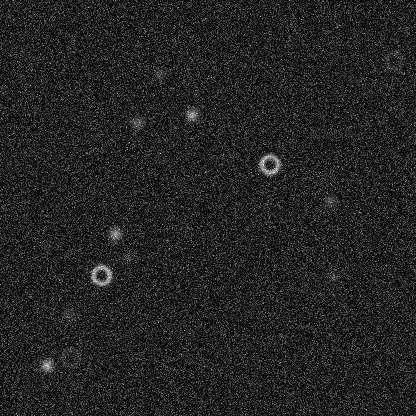Ring: (382, 48, 406, 72), (257, 152, 281, 176), (89, 263, 113, 287), (58, 345, 82, 369)
Spot: (322, 192, 338, 208), (128, 114, 144, 130), (38, 357, 54, 373), (323, 267, 339, 283), (61, 306, 77, 322), (120, 248, 136, 264), (37, 237, 53, 253), (184, 106, 200, 122), (107, 226, 123, 242), (151, 65, 167, 81)
